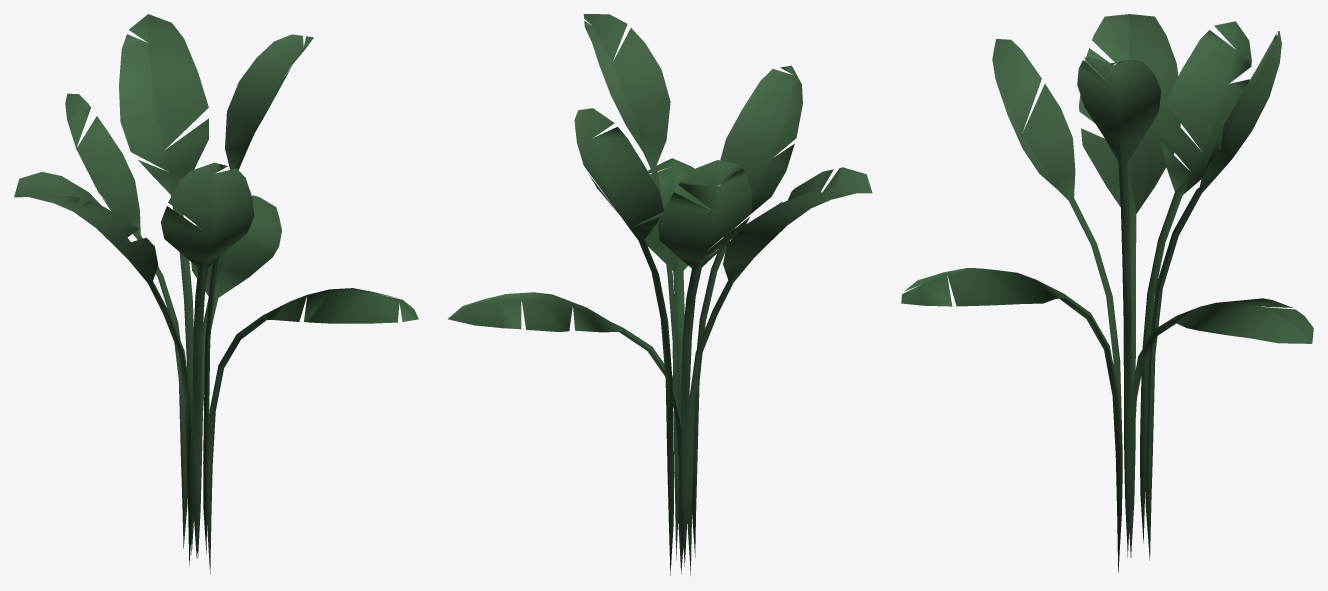
3 views of the same model, side by side, from view 1: azimuth 30°, elevation 25°; view 2: azimuth 150°, elevation 25°; view 3: azimuth 270°, elevation 25° (orthographic). The views are drawn at different scales.
Parts seen in each view (by area): view 1: alt305; view 2: alt305; view 3: alt305.
Boxes of the visible parts, box(x1,y1,x2,y2) form: alt305: box(14, 14, 418, 574); alt305: box(448, 14, 872, 575); alt305: box(901, 14, 1313, 572).
Size of the model in its own units: 0.3333 by 0.5 by 0.3303.
